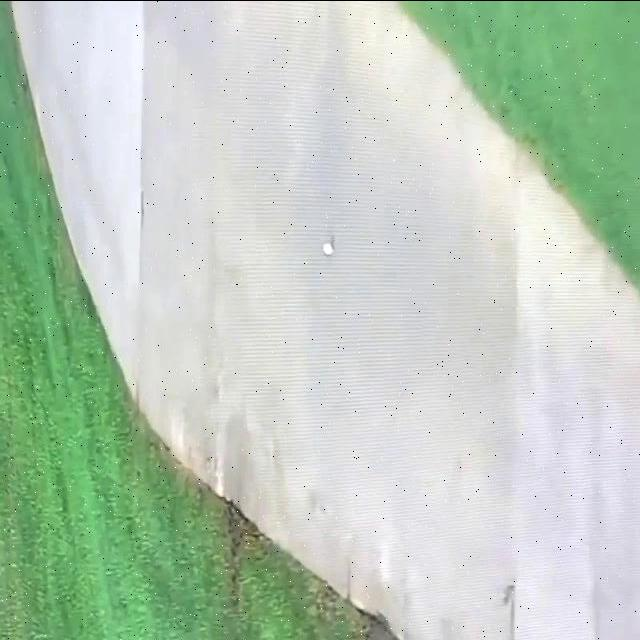golf ball: (323, 242, 333, 256)
